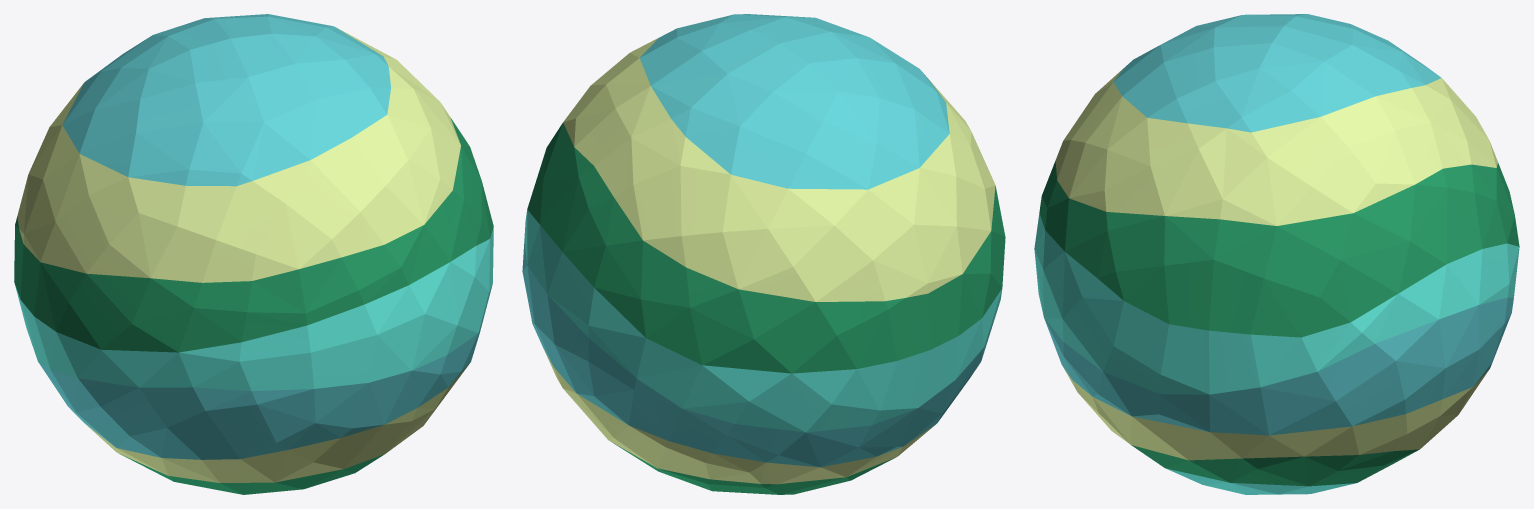
Rendered from uranus.glb.
The picture shows the model from 3 angles, left to right: view 1: azimuth 30°, elevation 25°; view 2: azimuth 150°, elevation 25°; view 3: azimuth 270°, elevation 25°; orthographic projection.
Parts seen in each view (by area): view 1: huitugou_2145_05; view 2: huitugou_2145_05; view 3: huitugou_2145_05.
Part boxes in pixels (x1=…): huitugou_2145_05: x1=14, y1=14, x2=493, y2=494; huitugou_2145_05: x1=522, y1=14, x2=1005, y2=494; huitugou_2145_05: x1=1034, y1=14, x2=1519, y2=494.
Size of the model in its own units: 1.11 by 1.12 by 1.12.
1 material, 1 textured.
